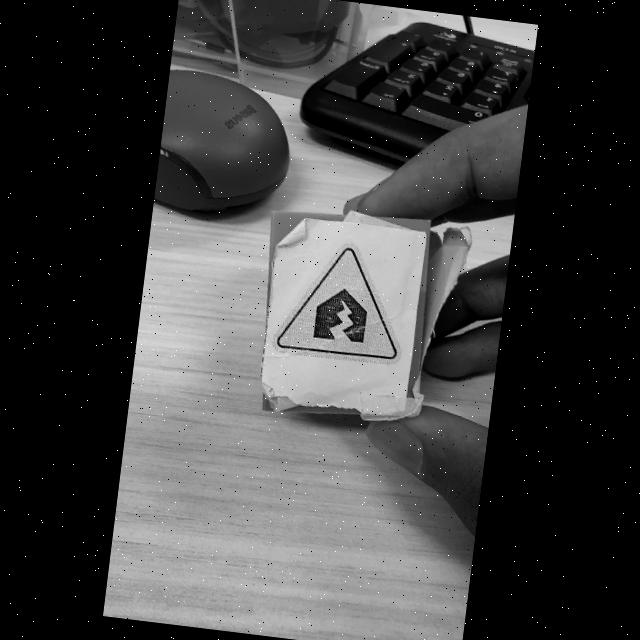Earthquake: (277, 248, 398, 360)
